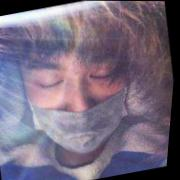WRONG: (17, 29, 145, 161)
